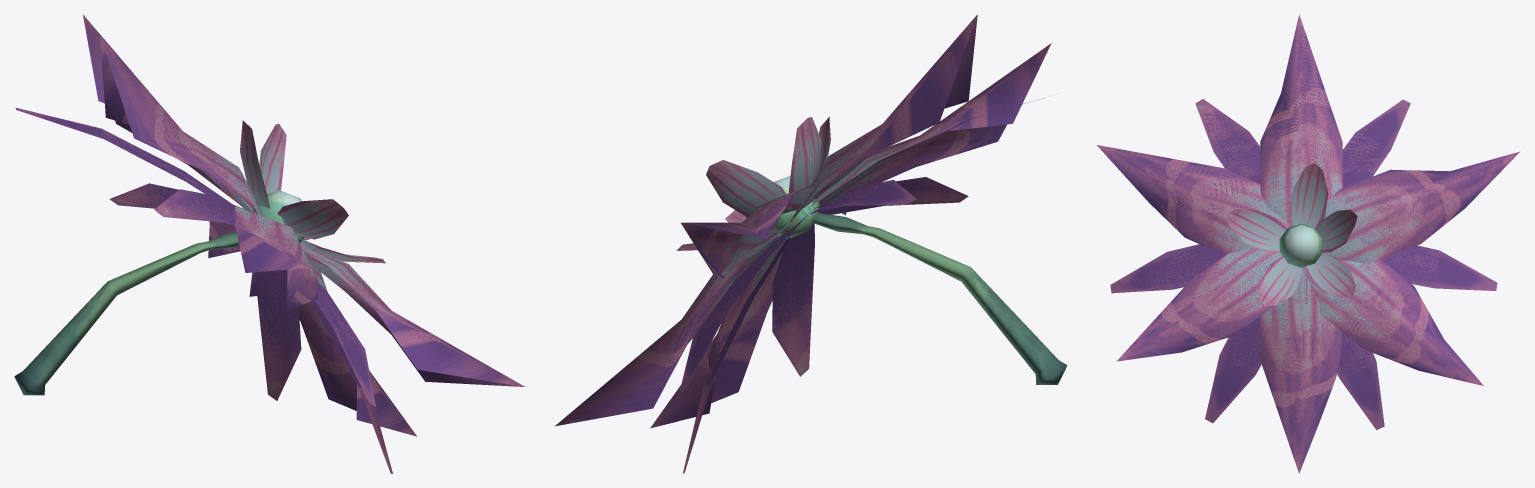
File: flowerPurple.fbx
3 renders of one model, left to right at view 1: azimuth 30°, elevation 25°; view 2: azimuth 150°, elevation 25°; view 3: azimuth 270°, elevation 25°, orthographic. The views are drawn at different scales.
Parts seen in each view (by area): view 1: flowerPurple; view 2: flowerPurple; view 3: flowerPurple.
Part boxes in pixels (box(x1,y1,x2,y2)): flowerPurple: box(14, 14, 524, 473); flowerPurple: box(555, 14, 1067, 473); flowerPurple: box(1097, 14, 1520, 473).
Size of the model in its own units: 0.4855 by 0.5618 by 0.622.
